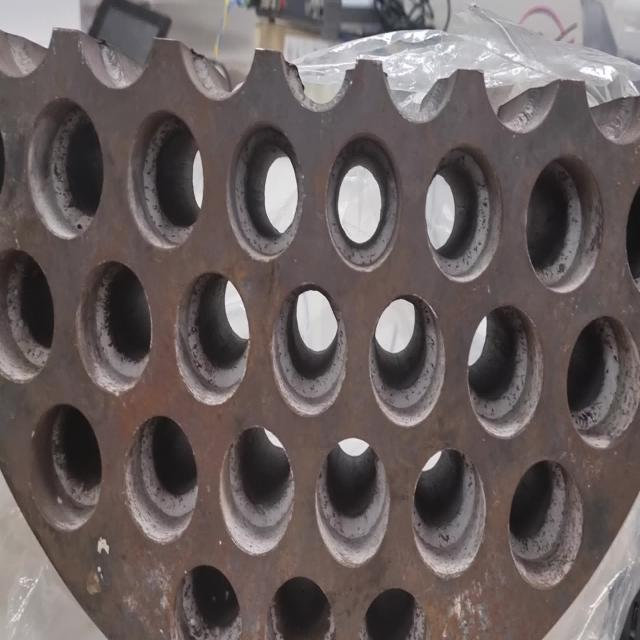Hole: (25, 96, 105, 240), (424, 142, 503, 283), (126, 108, 204, 250), (525, 154, 604, 294), (226, 121, 304, 261), (466, 302, 544, 440), (326, 131, 400, 273), (76, 258, 152, 396), (174, 269, 250, 406), (370, 292, 446, 428), (270, 284, 348, 416), (411, 446, 487, 580), (314, 437, 391, 569), (566, 314, 640, 450), (123, 412, 199, 544), (219, 424, 295, 556), (507, 459, 584, 589), (31, 401, 103, 532), (0, 248, 56, 384), (172, 562, 242, 640), (265, 574, 335, 640), (362, 586, 430, 640)
